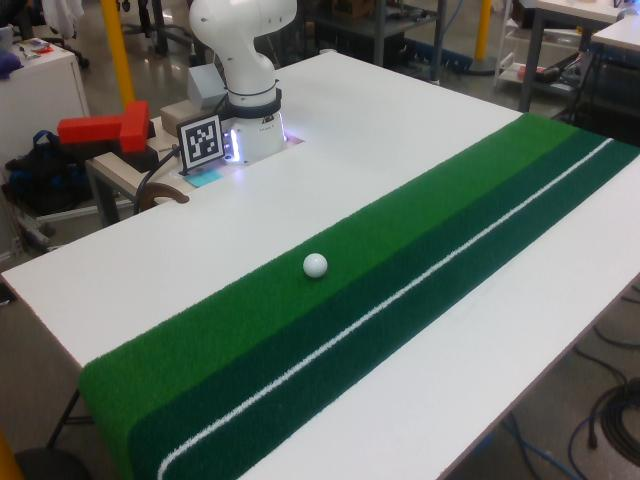golf_balls: (302, 253, 328, 278)
